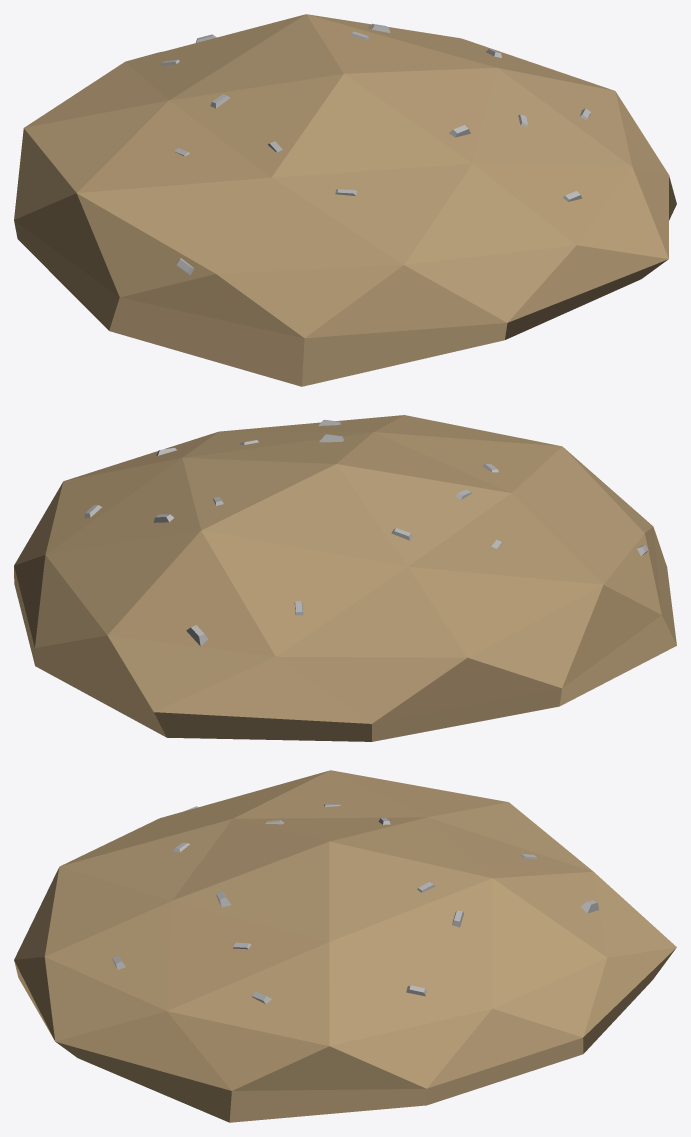
File: Burger_Bread.glb
3 renders of one model, top to bottom at view 1: azimuth 30°, elevation 25°; view 2: azimuth 150°, elevation 25°; view 3: azimuth 270°, elevation 25°, orthographic. The views are drawn at different scales.
Visible parts, largest first — view 1: Burger_Bread; view 2: Burger_Bread; view 3: Burger_Bread.
Boxes of the visible parts, x1,y1,x2,y2 form: Burger_Bread: (14, 14, 676, 386); Burger_Bread: (14, 415, 676, 741); Burger_Bread: (14, 770, 676, 1122).
Size of the model in its own units: 1.48 by 0.4047 by 1.58.
